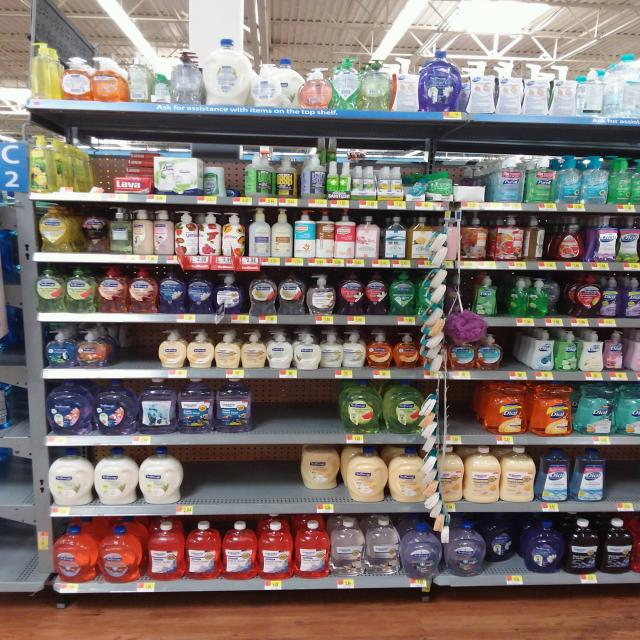void: (190, 447, 296, 498), (256, 381, 336, 434), (66, 136, 111, 192), (446, 383, 484, 432), (609, 448, 640, 502), (506, 329, 528, 372)
